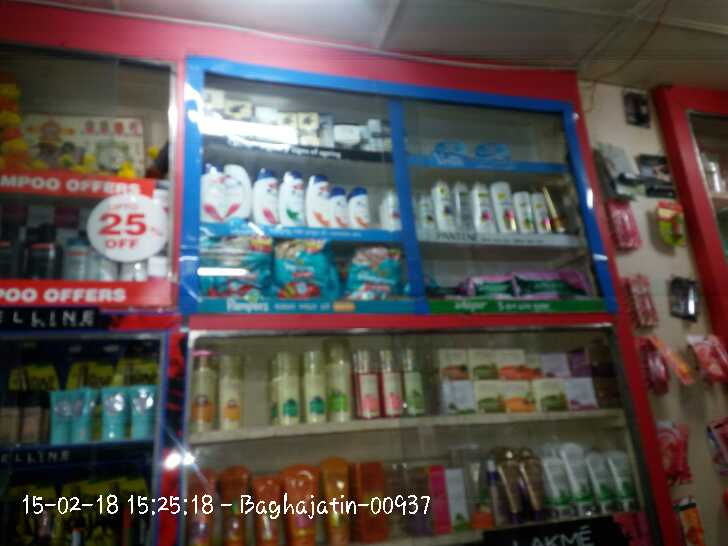venus: (438, 140, 467, 157), (475, 144, 510, 158)
